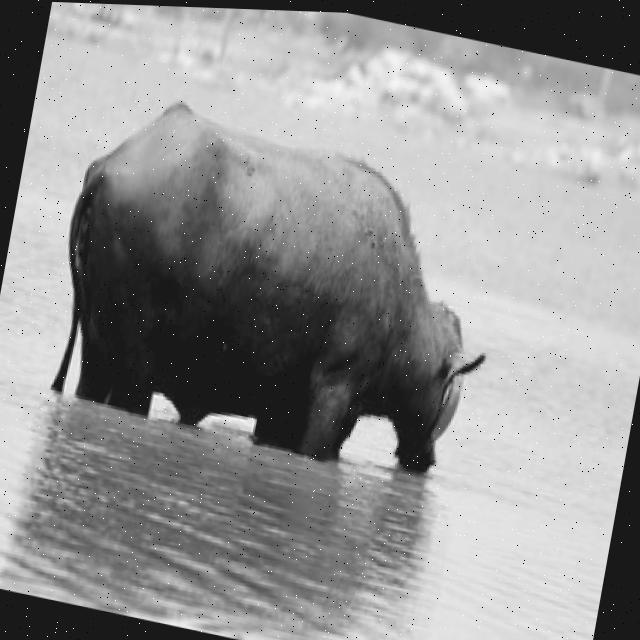Buffalo: (34, 72, 521, 497)
